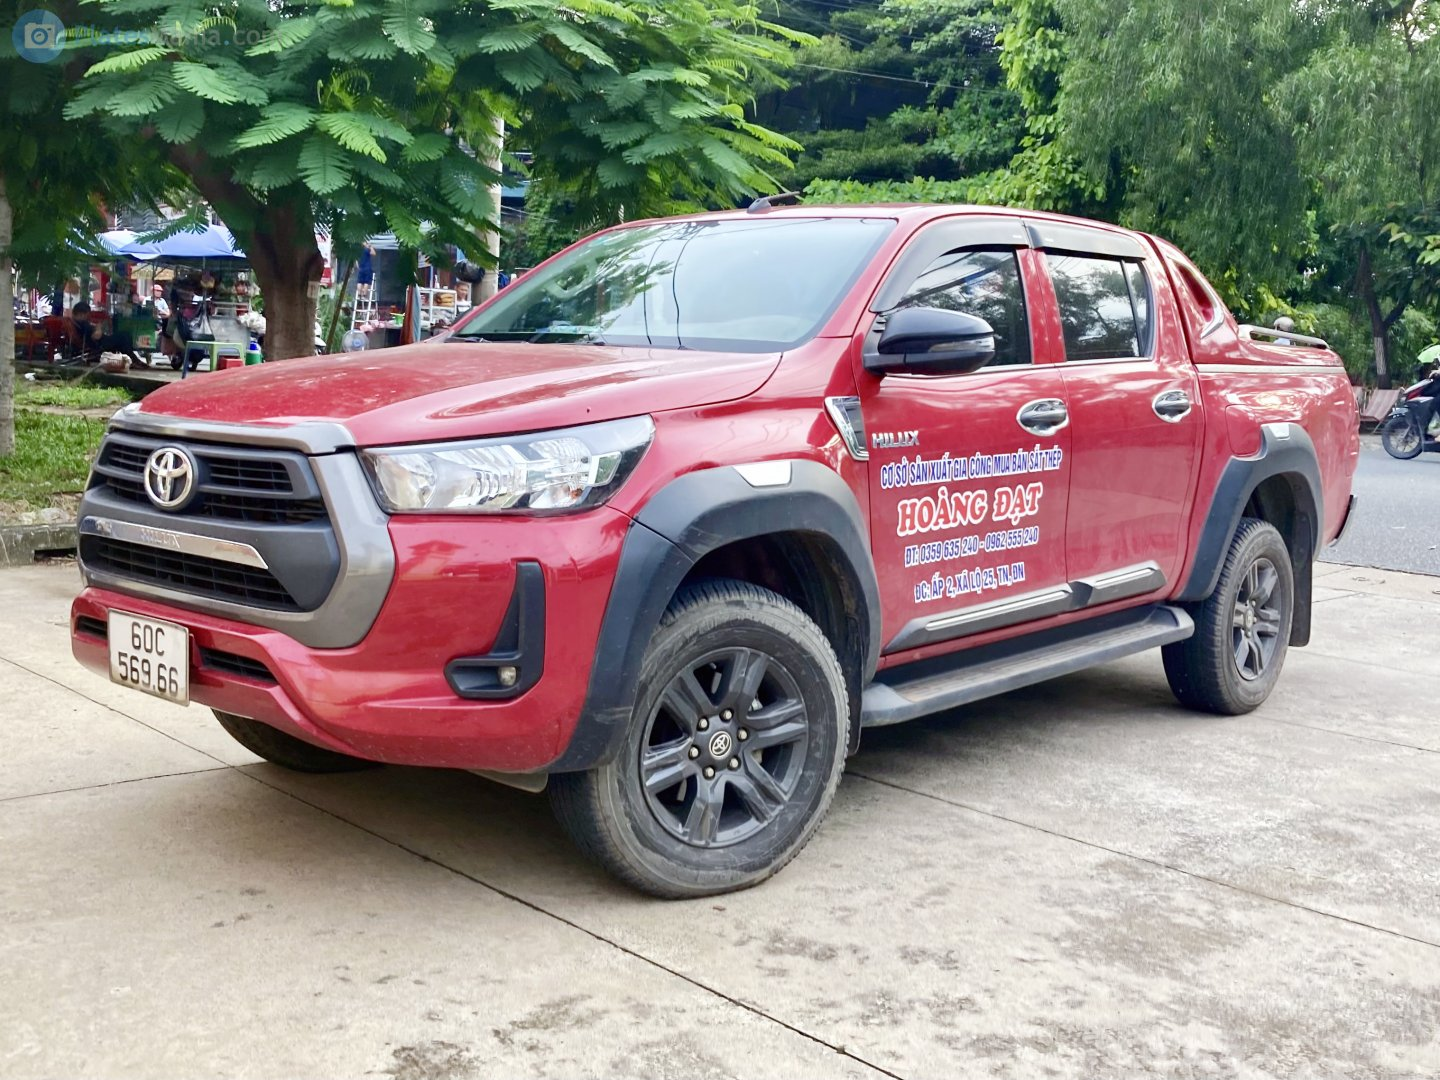bien_so: (108, 611, 188, 705)
